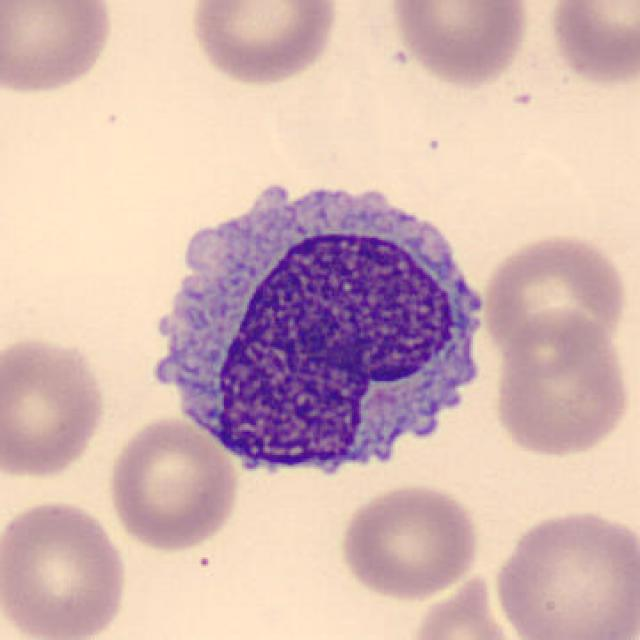Monocyte: (131, 162, 505, 497)
RBC: (489, 307, 635, 460), (477, 230, 631, 362), (489, 504, 638, 640), (103, 414, 242, 554), (0, 495, 132, 640), (334, 480, 484, 603), (0, 332, 110, 482), (185, 0, 343, 88), (384, 0, 533, 90), (0, 0, 117, 98), (403, 569, 522, 640), (544, 0, 638, 88)
